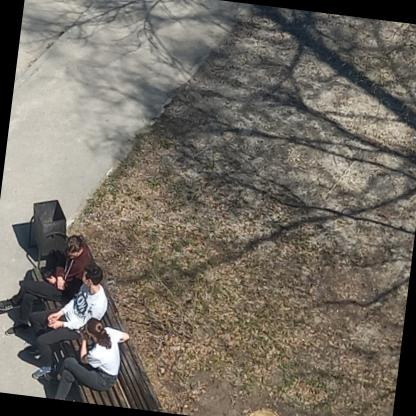Human Body: (22, 257, 114, 388), (0, 225, 97, 328), (40, 310, 135, 406)
